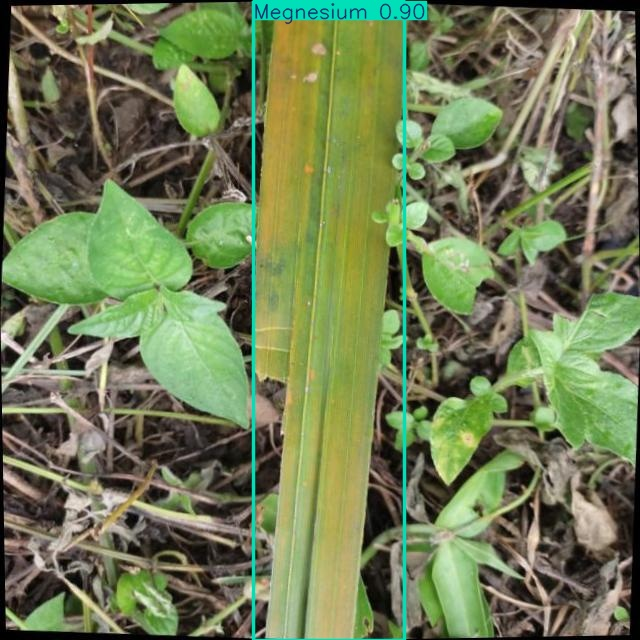Megnesium: (254, 2, 405, 640)
